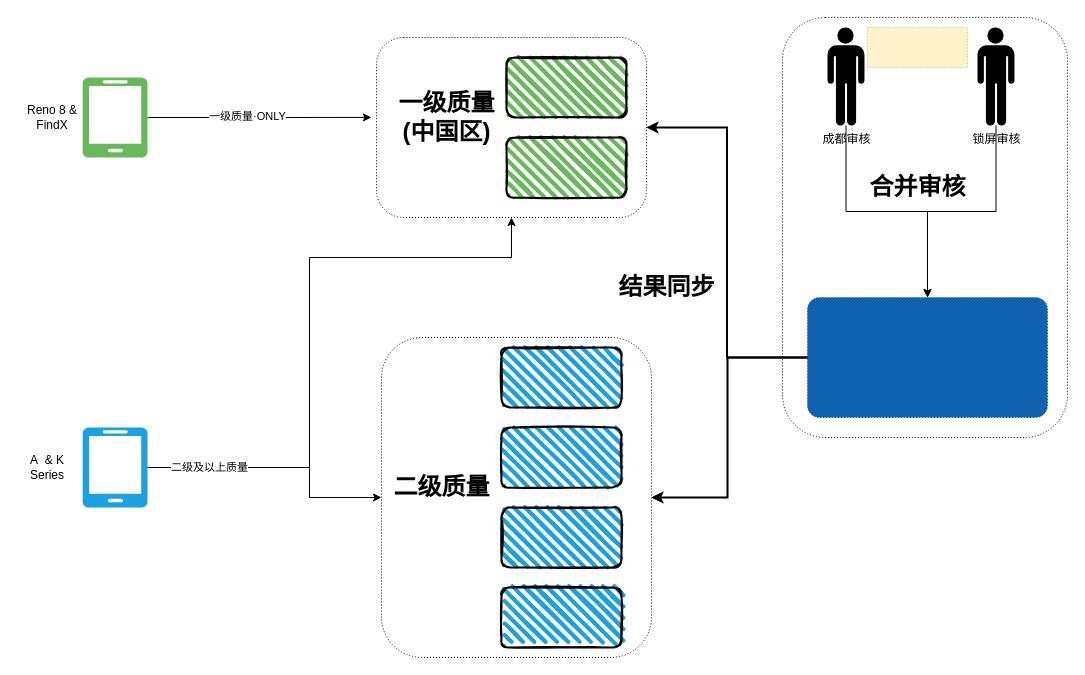
The diagram is 1085 pixels wide and 675 high, and some of its shapes have lost their labels. Here are the shapes that lost their labels. From the top down, the centre of each, then its label:
the point at 917,47: 功能点
the point at 927,357: System name [Software System] Description of software system.
